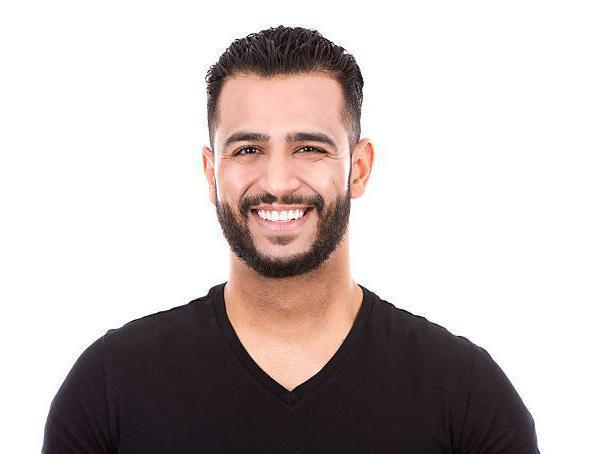Sober: (218, 74, 355, 269)
